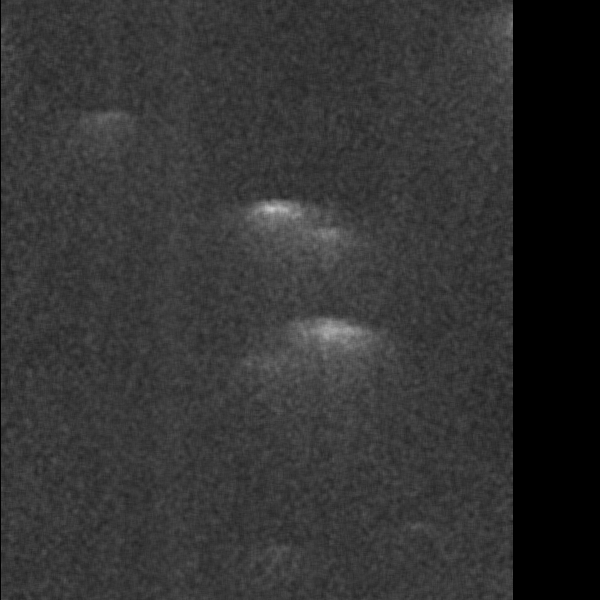spark: (486, 369, 515, 459), (90, 208, 121, 252)
